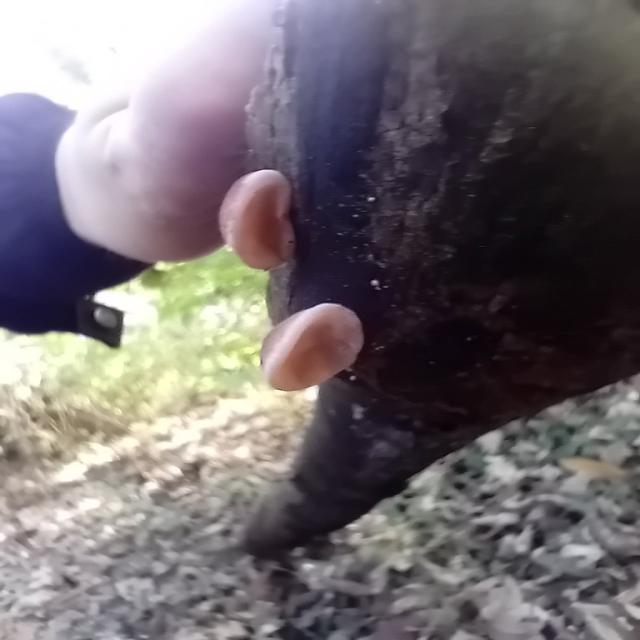Fase Muda: (249, 298, 377, 388), (217, 170, 310, 276)
